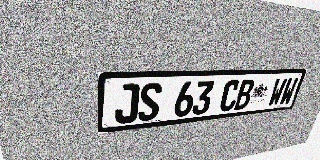3: (191, 81, 215, 115)
6: (173, 81, 197, 118)
B: (233, 79, 256, 111)
C: (218, 80, 241, 112)
J: (114, 83, 140, 124)
S: (137, 83, 162, 122)
W: (267, 78, 288, 107), (278, 77, 299, 105)
